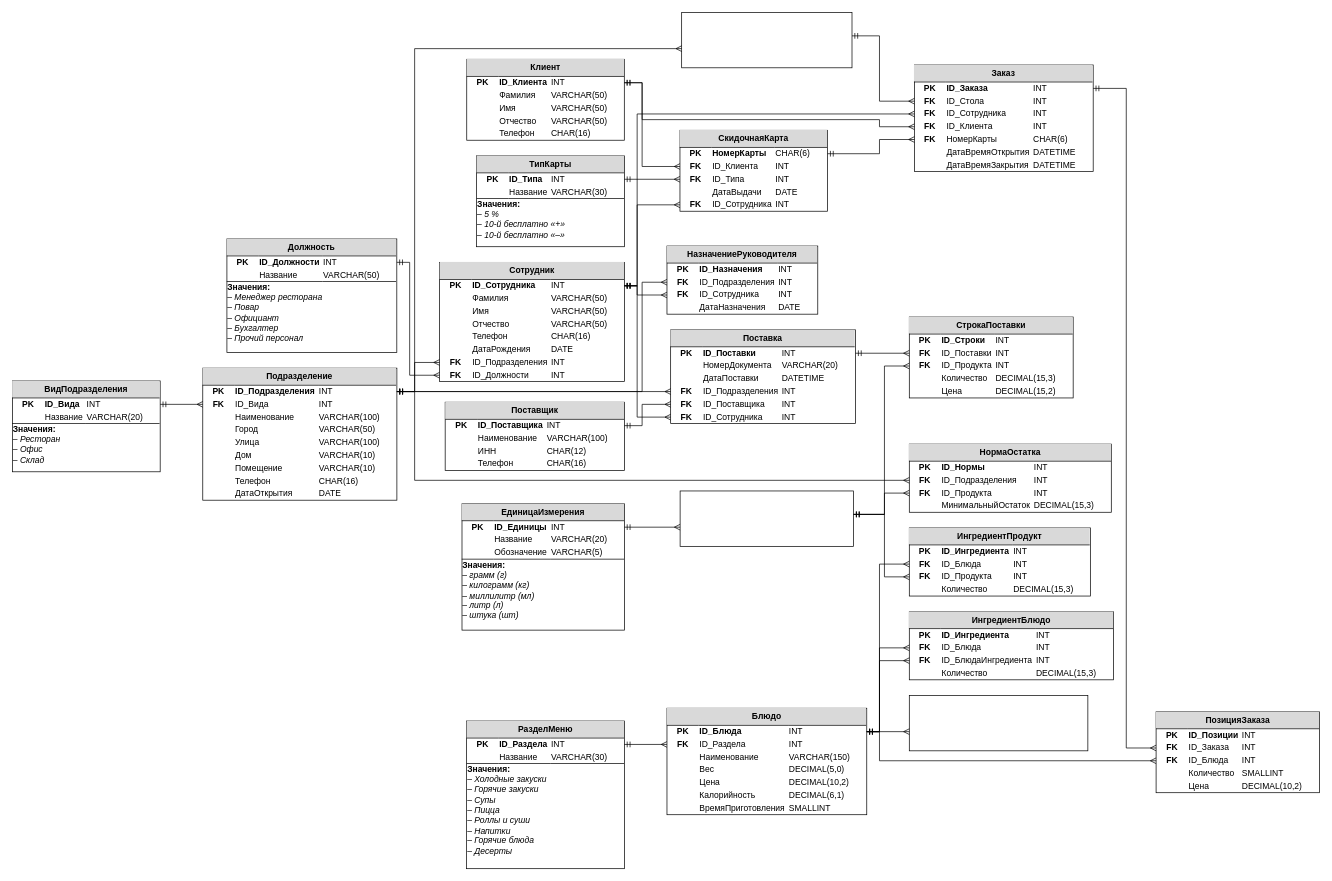
Some shapes in this 1332 by 881 pixel diagram are drawn without their labels. Here are the shapes that lost their labels. From the top down, the centre of each, then its label:
At pixel 766 40: "Стол PK ID_Стола INT FK ID_Подразделения INT НомерСтола SMALLINT".
At pixel 766 518: "Продукт PK ID_Продукта INT FK ID_Единицы INT Наименование VARCHAR(100)".
At pixel 998 723: "КомпонентБлюда PK ID_Компонента INT FK ID_Блюда INT Компонент VARCHAR(100)".
